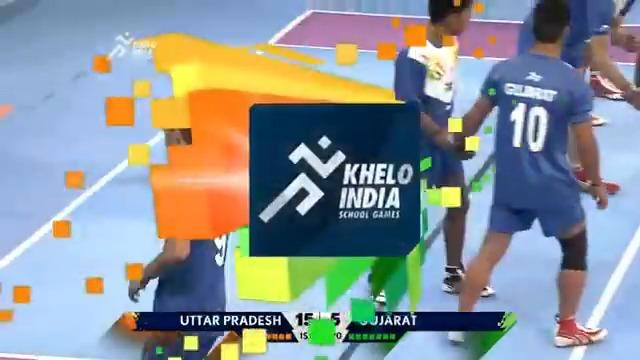Player: (445, 1, 609, 347), (367, 0, 479, 311), (127, 232, 229, 359)
